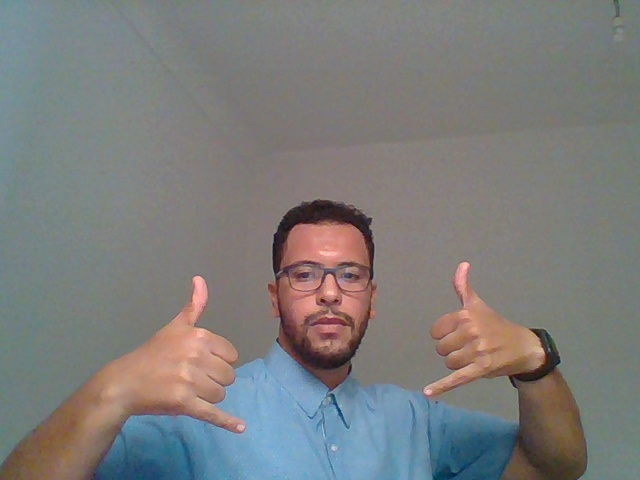callme: (60, 239, 253, 468), (408, 223, 574, 452)
